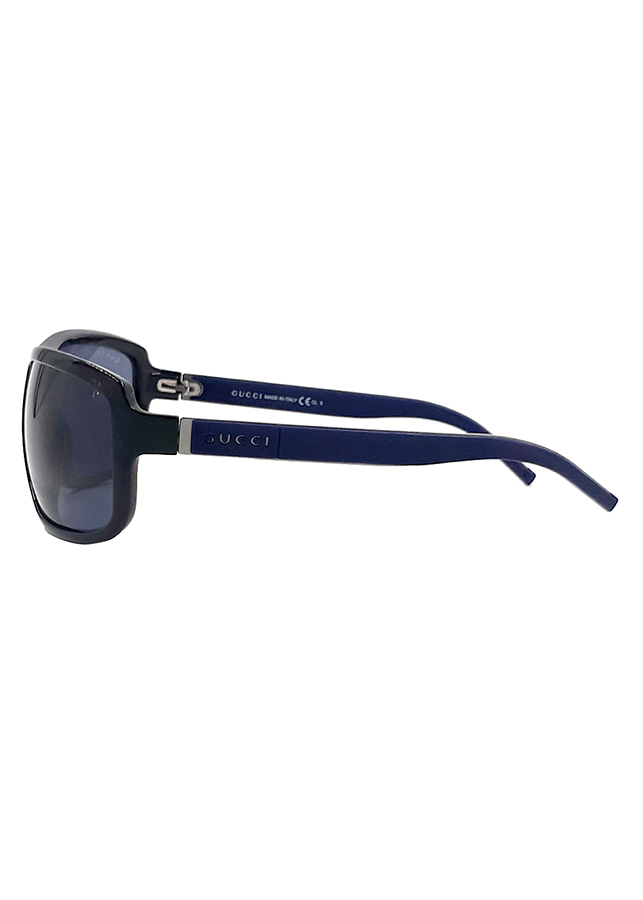Gucci: (197, 419, 283, 463), (227, 383, 267, 406)
